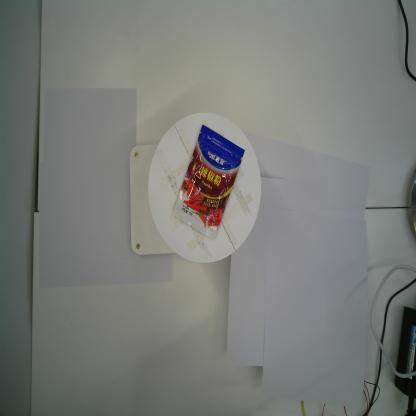Seasoner: (172, 125, 245, 240)
